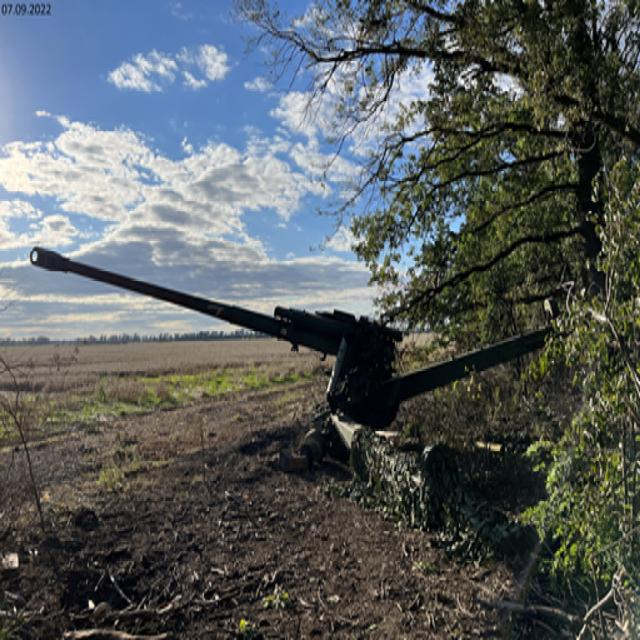ART: (26, 235, 506, 509)
